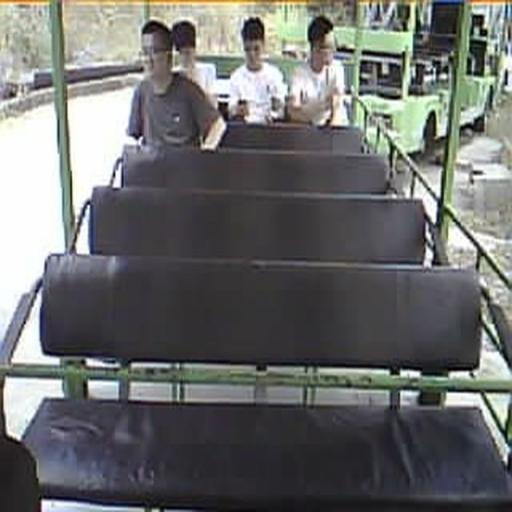persona: (126, 19, 227, 152), (288, 15, 350, 128), (227, 16, 288, 125), (170, 20, 218, 109)
